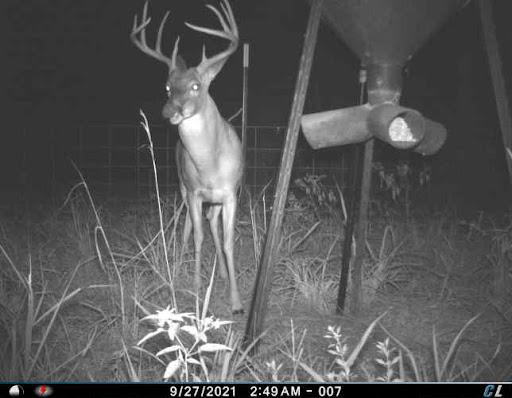Deer: (124, 2, 250, 317)
